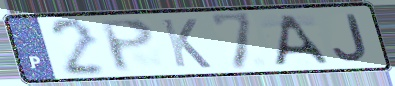2: (49, 16, 113, 80)
7: (208, 11, 257, 73)
A: (271, 12, 332, 67)
J: (331, 13, 371, 63)
K: (158, 17, 215, 70)
P: (96, 17, 157, 74)
